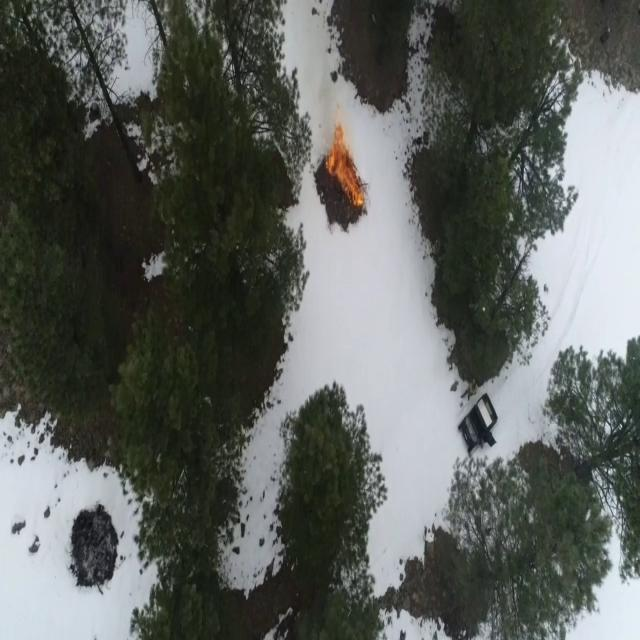fire: (328, 128, 362, 204)
